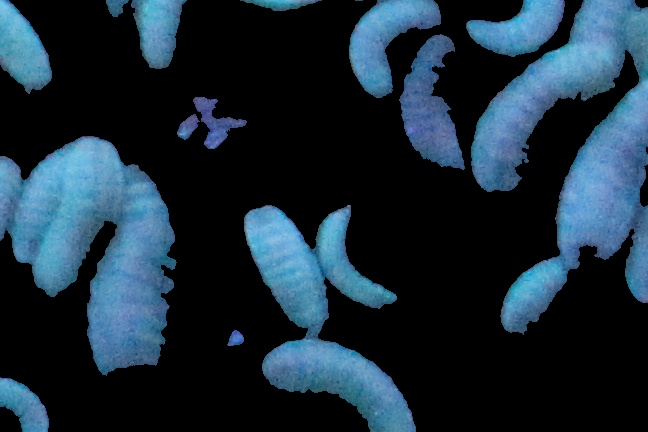larvae: (469, 41, 618, 204), (86, 164, 175, 375), (554, 81, 648, 256), (262, 334, 417, 432), (33, 138, 114, 295), (244, 203, 333, 332), (348, 1, 442, 99), (401, 36, 466, 172), (318, 203, 396, 308), (501, 247, 593, 334), (12, 144, 74, 263), (475, 1, 566, 60), (1, 1, 55, 92), (131, 1, 186, 73), (566, 1, 630, 59), (1, 376, 51, 432), (1, 154, 17, 242)
